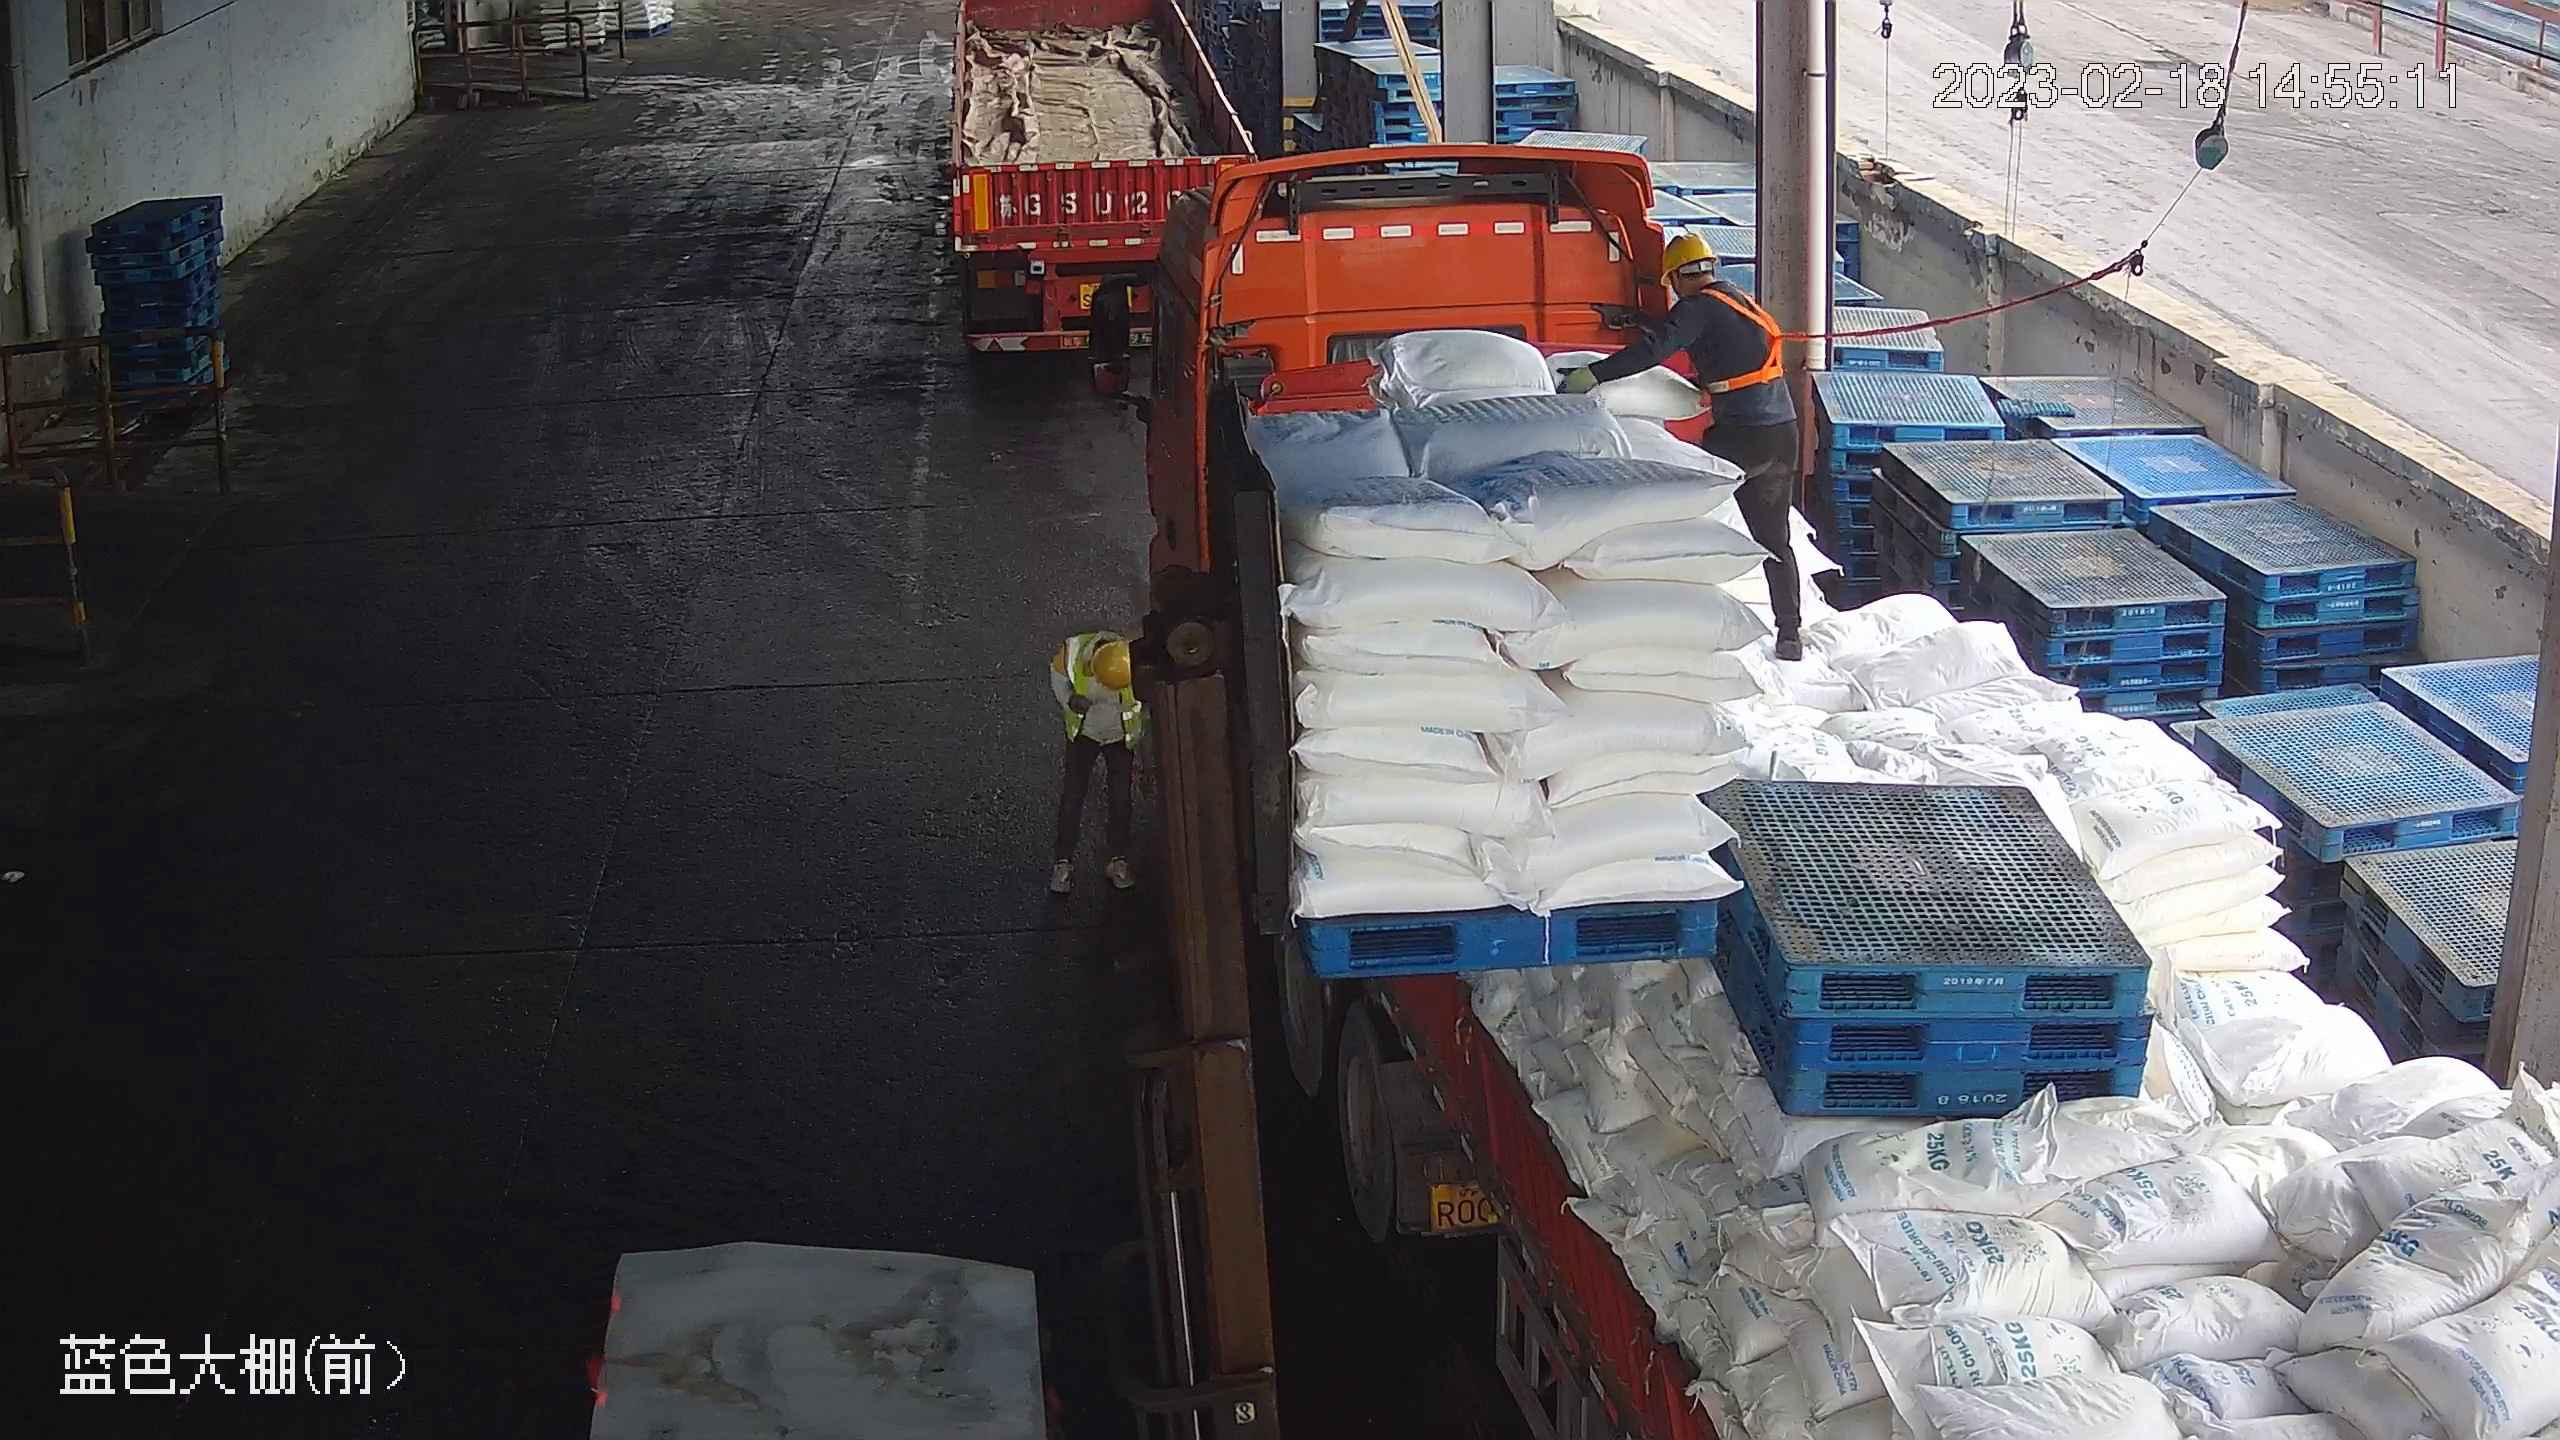belt: (1702, 284, 1798, 399)
head: (1641, 233, 1775, 338), (1056, 627, 1135, 703)
helmet: (1055, 627, 1133, 703), (1655, 232, 1718, 284)
people: (1560, 231, 1816, 657)
truck: (1136, 170, 2556, 1437), (933, 4, 1294, 375)
